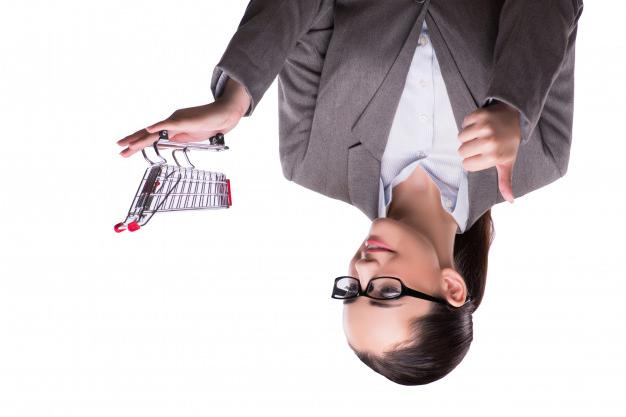thumbsdown: (457, 108, 515, 205)
